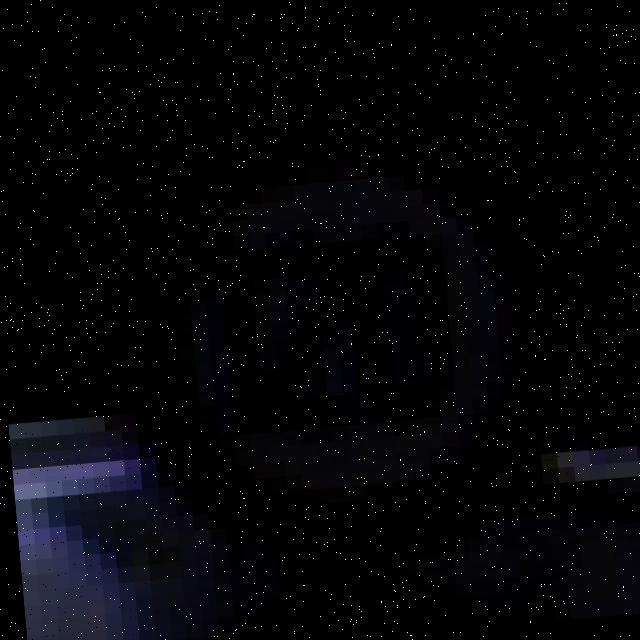Ograniczenie predkosci do 120: (109, 93, 575, 573)
